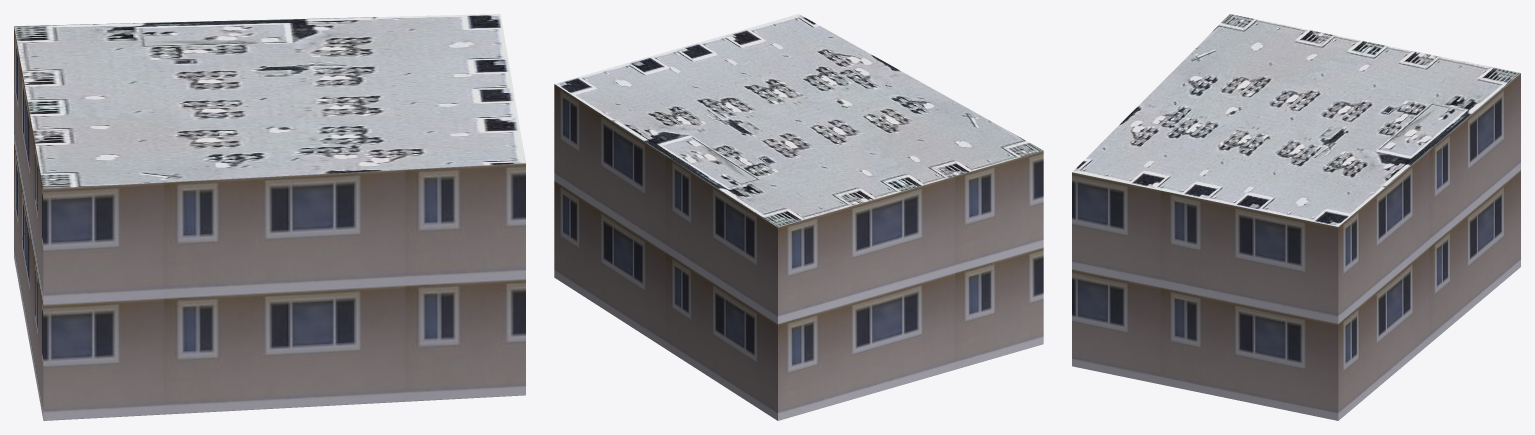
File: ResTex__582.fbx
3 renders of one model, left to right at view 1: azimuth 30°, elevation 25°; view 2: azimuth 150°, elevation 25°; view 3: azimuth 270°, elevation 25°, orthographic. The views are drawn at different scales.
Visible parts, largest first — view 1: CityEngineMaterial_21_m, CityEngineMaterial_4_m; view 2: CityEngineMaterial_21_m, CityEngineMaterial_4_m; view 3: CityEngineMaterial_21_m, CityEngineMaterial_4_m.
Boxes of the visible parts, x1,y1,x2,y2 form: CityEngineMaterial_21_m: [14, 26, 525, 420]; CityEngineMaterial_4_m: [14, 14, 525, 188]; CityEngineMaterial_21_m: [554, 84, 1043, 420]; CityEngineMaterial_4_m: [555, 14, 1043, 227]; CityEngineMaterial_21_m: [1072, 73, 1520, 420]; CityEngineMaterial_4_m: [1072, 14, 1520, 226].
Size of the model in its own units: 14.12 by 6 by 12.58.
2 materials, 2 textured.
